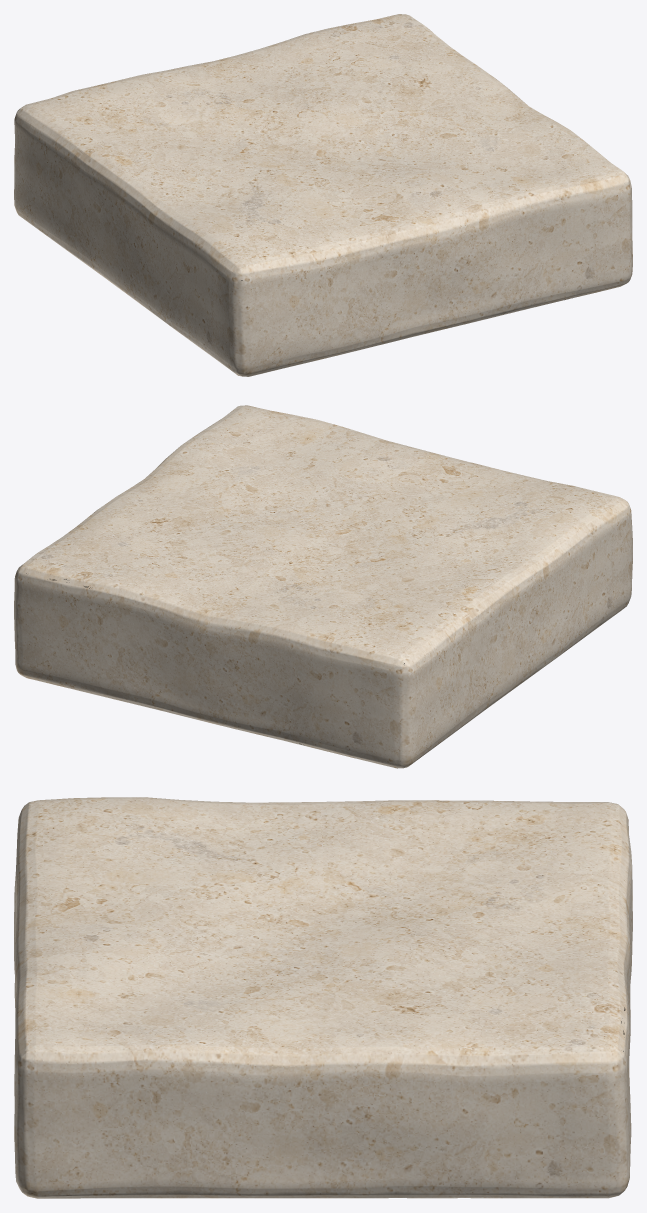
The model's file is tak-flat-white.glb.
The picture shows the model from 3 angles, top to bottom: view 1: azimuth 30°, elevation 25°; view 2: azimuth 150°, elevation 25°; view 3: azimuth 270°, elevation 25°; orthographic projection. The views are drawn at different scales.
Visible parts, largest first — view 1: tak-flat-white; view 2: tak-flat-white; view 3: tak-flat-white.
Part boxes in pixels (box(x1,y1,x2,y2)): tak-flat-white: box(14, 14, 632, 376); tak-flat-white: box(14, 405, 632, 768); tak-flat-white: box(14, 797, 632, 1198).
Bounding box in the file's own units: 0.0283 × 0.0079 × 0.0283.
1 material, 1 textured.
